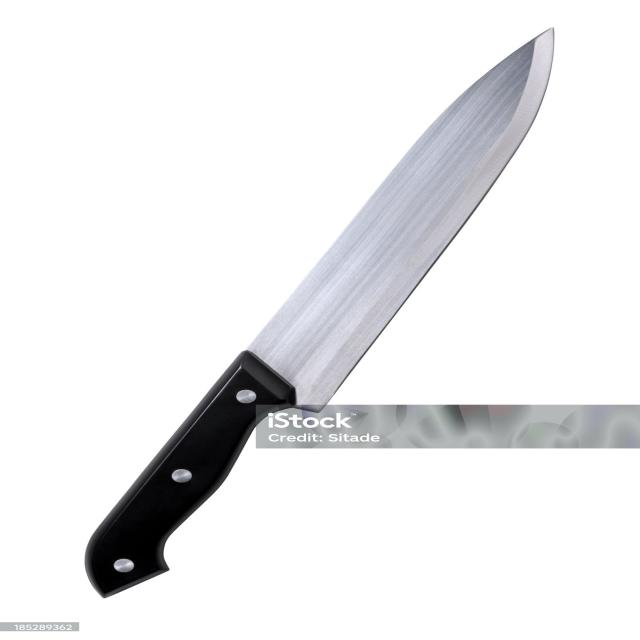Knife: (85, 29, 553, 597)
